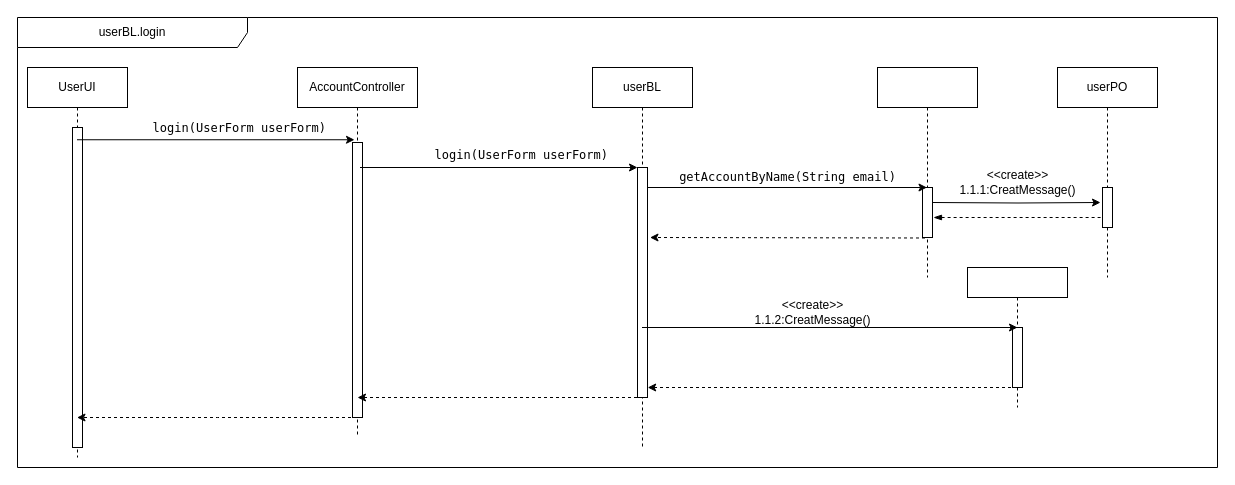
Image size: 1235x485. Some labels were removed from this diagram. Here are the shapes that lost their labels. From the top down, the centre of each, then its label:
At point (927, 172): "AccountMapper".
At point (1017, 337): "ResponseVO".
